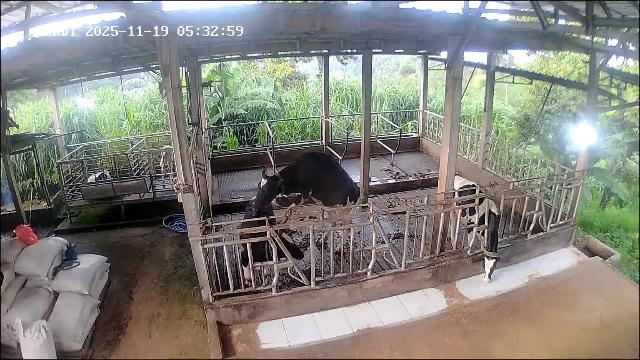mounting: (254, 151, 360, 249)
